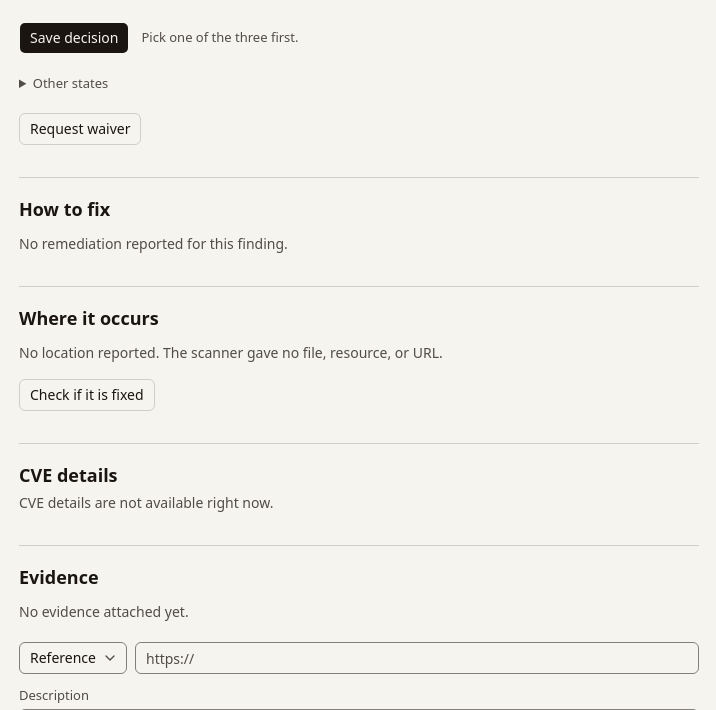
the finding page's fix check › reports a finding that is still present in the latest scan
(page scrolled)
What coordinates should you click on to do the following:
click the button "Check if it is fixed"
I would click on:
 (87, 396)
Its box is [19,380,155,412].
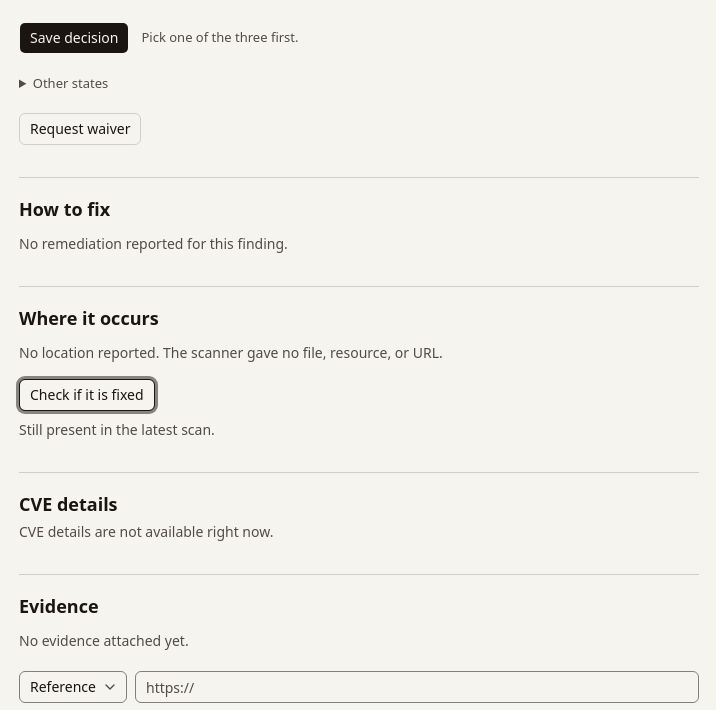
Expected: the message reads "Still present in the latest scan.", [19,420,215,440]
